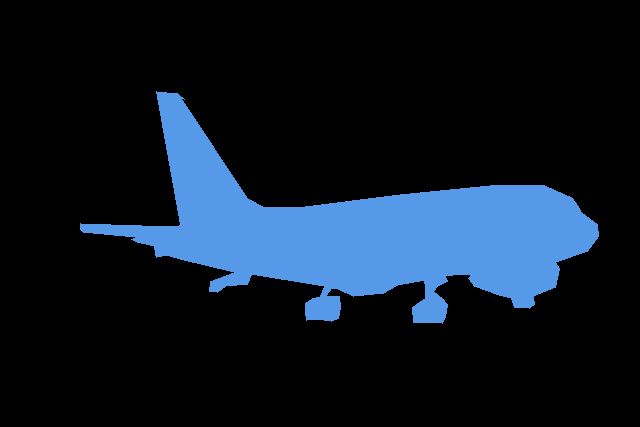Airplane: (80, 91, 599, 323)
